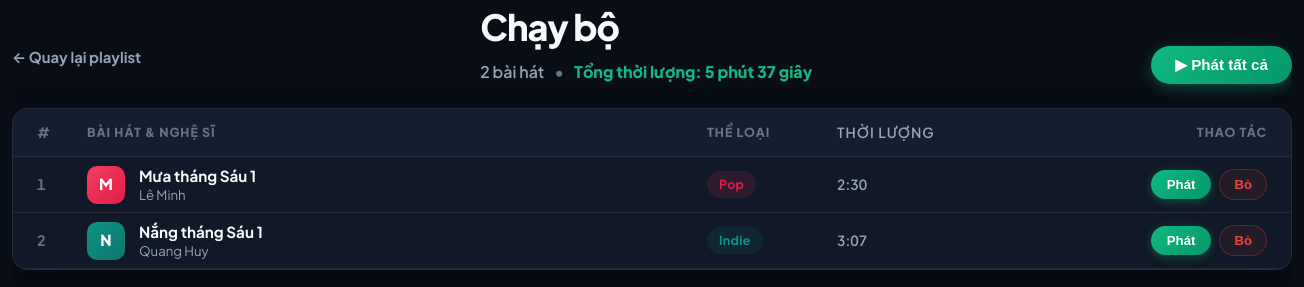
Scenario: PlaylistDetailPage › bấm nút Bỏ thì gỡ bài hát khỏi playlist
What coordinates should you click on to do the following:
click the button with aria-label "bỏ bài "
I would click on:
 (1243, 184)
Its box is [1219,169,1267,200].
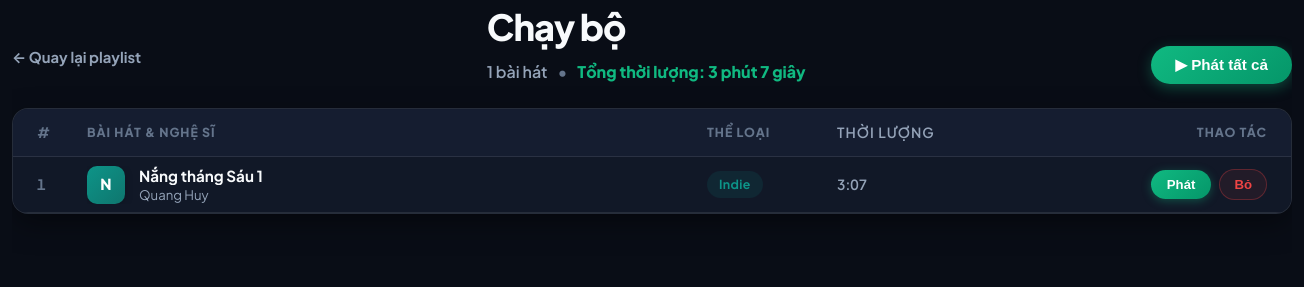
Expected: the text "Nắng tháng Sáu 1" is shown, [139,166,263,186]
Expected: the text "Mưa tháng Sáu 1" is gone
